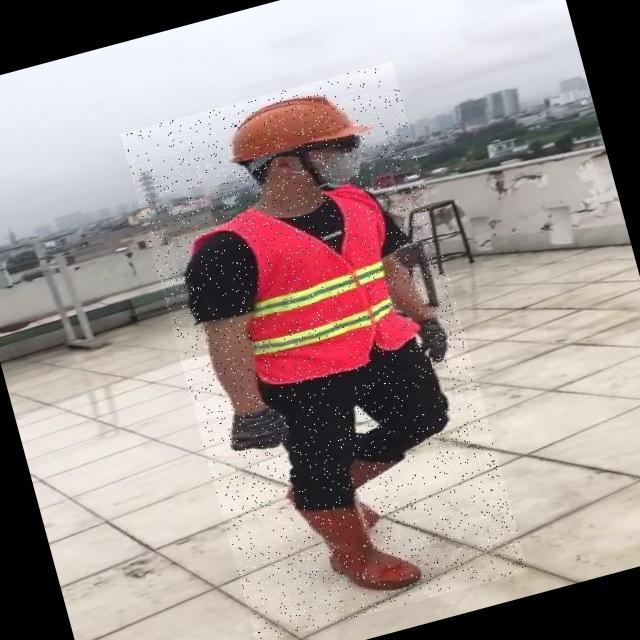Gloves: (219, 399, 297, 458), (409, 312, 454, 365)
Helmet: (209, 74, 375, 178)
Human: (120, 60, 528, 640)
Safety Boot: (296, 482, 429, 610)
Safety Vest: (216, 173, 423, 392)
